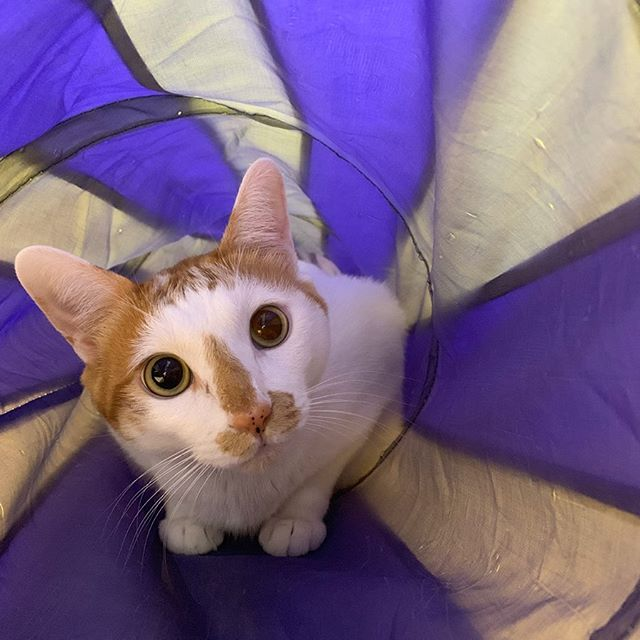cat: (4, 159, 350, 505)
